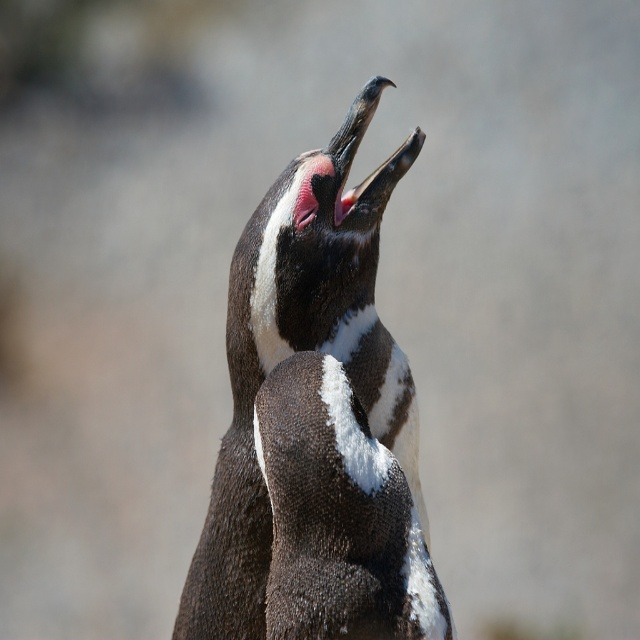Penguin: (171, 75, 458, 640)
